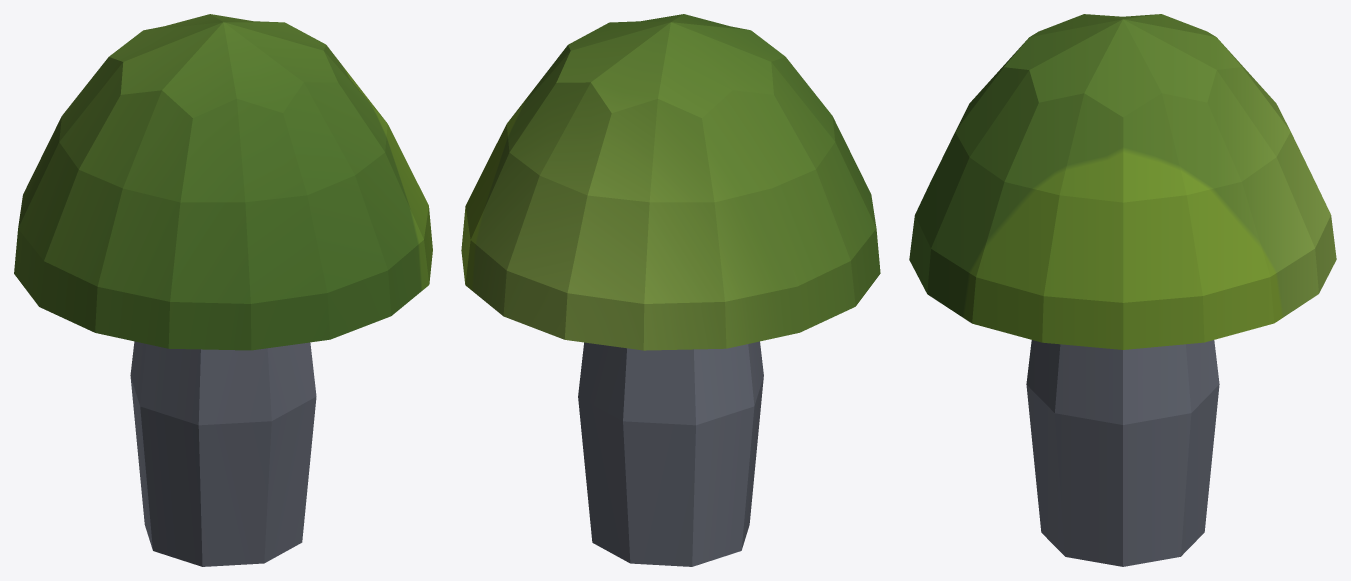
File: Mushroom_14.fbx
The picture shows the model from 3 angles, left to right: view 1: azimuth 30°, elevation 25°; view 2: azimuth 150°, elevation 25°; view 3: azimuth 270°, elevation 25°; orthographic projection.
Visible parts, largest first — view 1: Mushroom_14; view 2: Mushroom_14; view 3: Mushroom_14.
Part boxes in pixels (x1,y1,x2,y2): Mushroom_14: (14,14,432,566); Mushroom_14: (461,14,880,566); Mushroom_14: (909,14,1336,566).
Size of the model in its own units: 0.6048 by 0.8012 by 0.6048.
